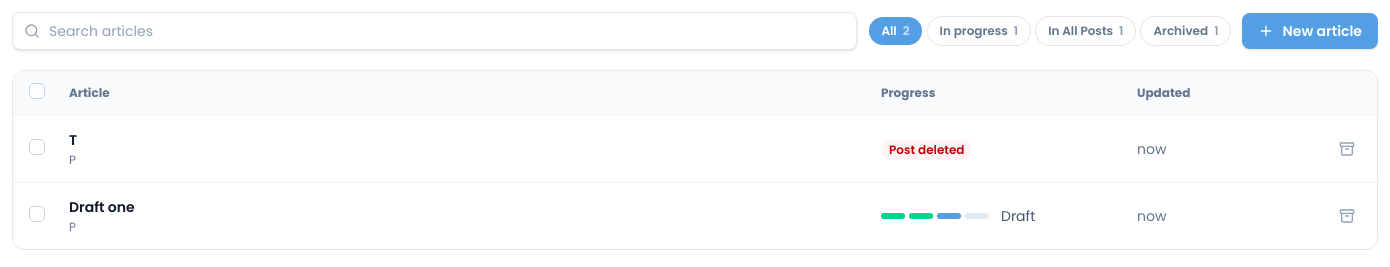
Test: PieceList › keeps archived articles out of the list until asked for
The width and height of the screenshot is (1390, 267).
Check: the link "Draft one" is shown, box [69,197,135,217]
Check: the text "Old" is not shown
Click the button "Archived 1".
click(1186, 31)  # box [1142,17,1230,45]
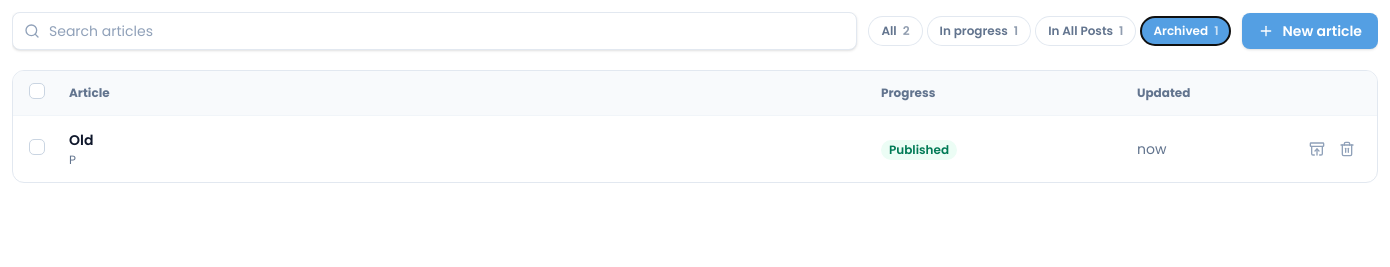
Check: the link "Old" is shown, box [69,130,93,150]
Check: the link "Draft one" is gone
